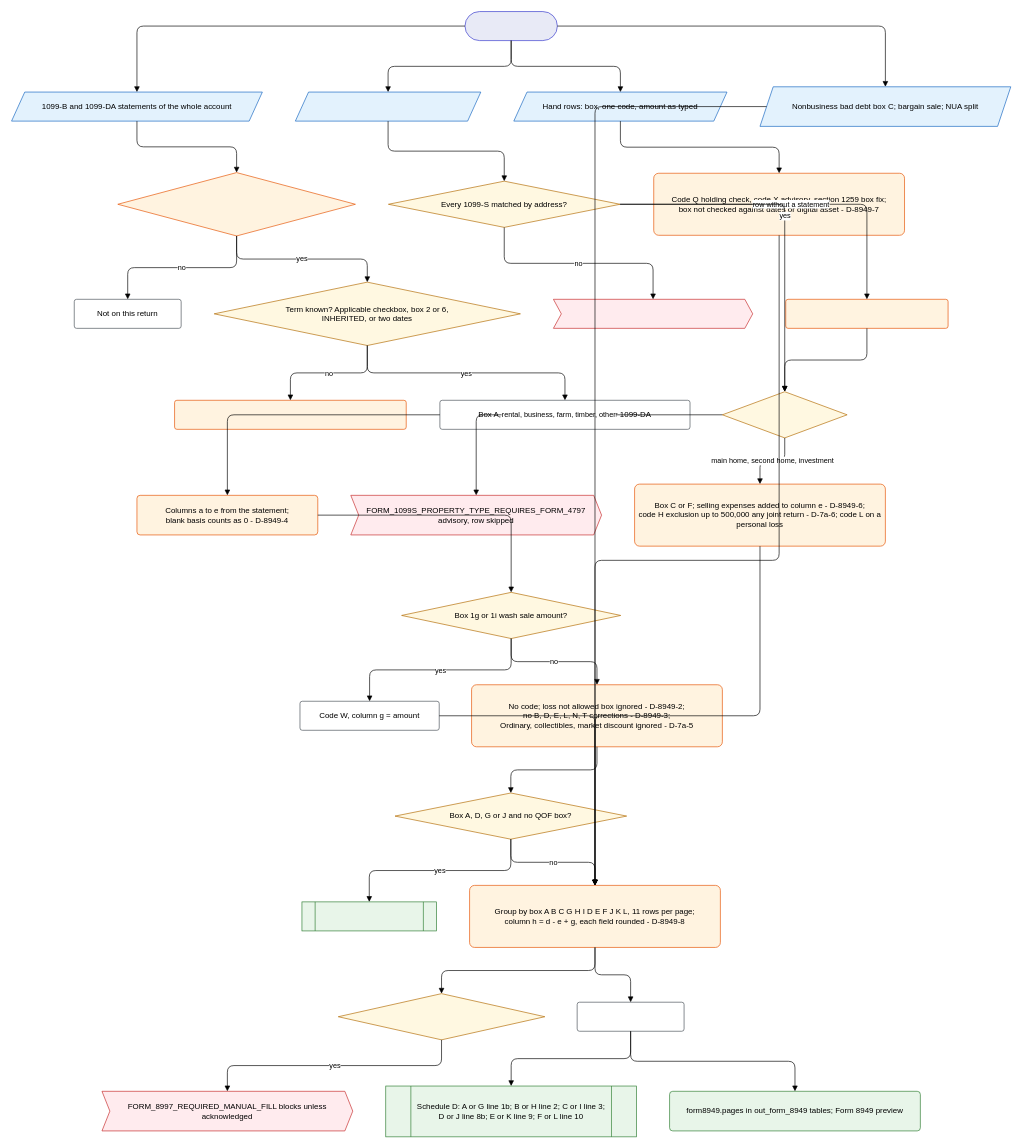
The diagram is 1022 pixels wide and 1148 high, and some of its shapes have lost their labels. Here are the shapes that lost their labels. From the top down, the centre of each, then its label:
(x=510, y=26): Compute return
(x=388, y=106): 1099-S statements and property rows
(x=236, y=204): Recipient TIN is filer or spouse, or filer answered Yes - D-7a-1
(x=653, y=313): FORM_1099S_REAL_ESTATE_REPORTED blocks
(x=866, y=313): Row with proceeds 0 - D-8949-5
(x=290, y=414): Statement dropped, no row, no flag - D-8949-1
(x=784, y=414): Property type?
(x=369, y=916): Schedule D line 1a or 8a
(x=441, y=1016): Code Y or Z row, or QOF box?
(x=630, y=1016): Page totals by box
